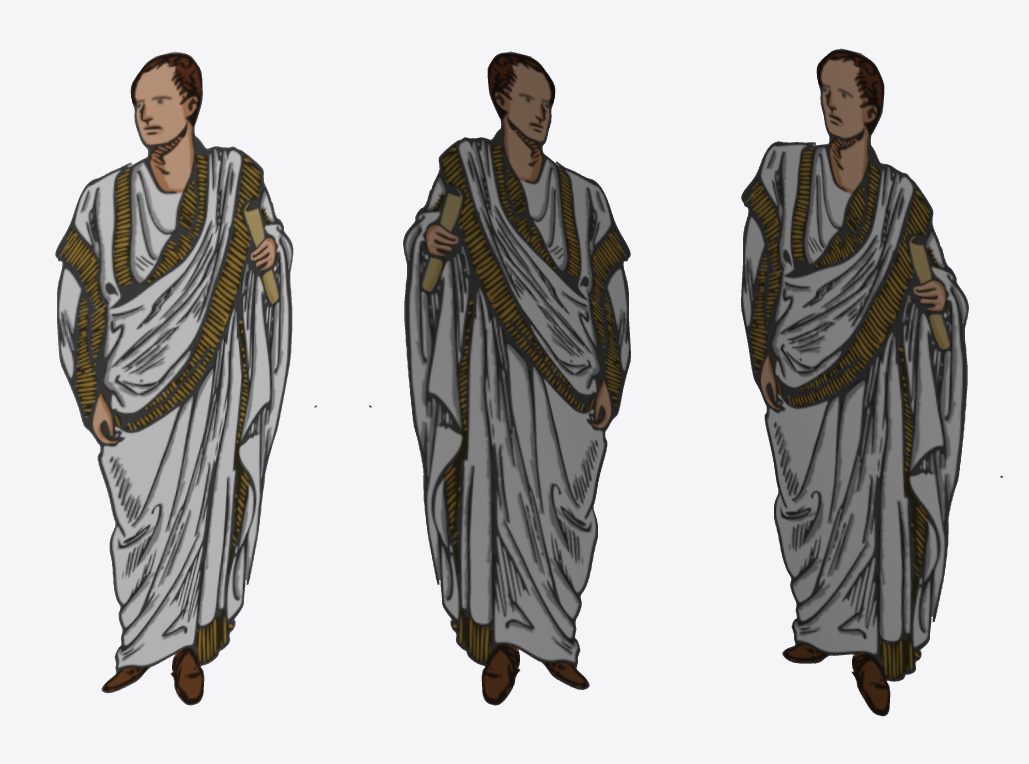
The model's file is Publiek3.fbx.
3 views of the same model, side by side, from view 1: azimuth 30°, elevation 25°; view 2: azimuth 150°, elevation 25°; view 3: azimuth 330°, elevation 25° (orthographic).
Visible parts, largest first — view 1: Publiek3; view 2: Publiek3; view 3: Publiek3.
Part boxes in pixels (x1,y1,x2,y2): Publiek3: (55, 51, 316, 705); Publiek3: (369, 51, 630, 705); Publiek3: (741, 48, 1002, 716).
Bounding box in the file's own units: 0.7662 × 1.53 × 0.0854.
1 material, 1 textured.
